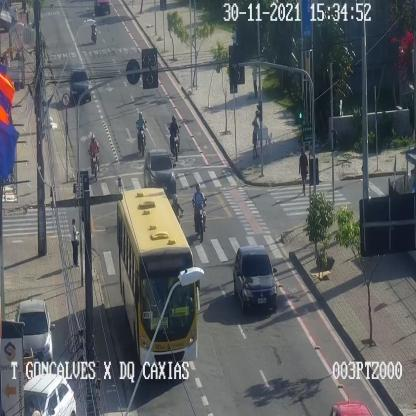bus: (116, 187, 201, 368)
car: (232, 245, 276, 311), (16, 298, 56, 365), (25, 376, 75, 416), (144, 148, 177, 199), (69, 70, 91, 102), (94, 0, 114, 22)
motorbike: (192, 184, 206, 242), (136, 111, 146, 155), (89, 134, 98, 181), (170, 116, 178, 160), (92, 13, 98, 44)
person: (71, 217, 79, 267), (300, 146, 308, 195), (252, 110, 259, 158), (252, 63, 259, 96), (231, 25, 238, 46)
